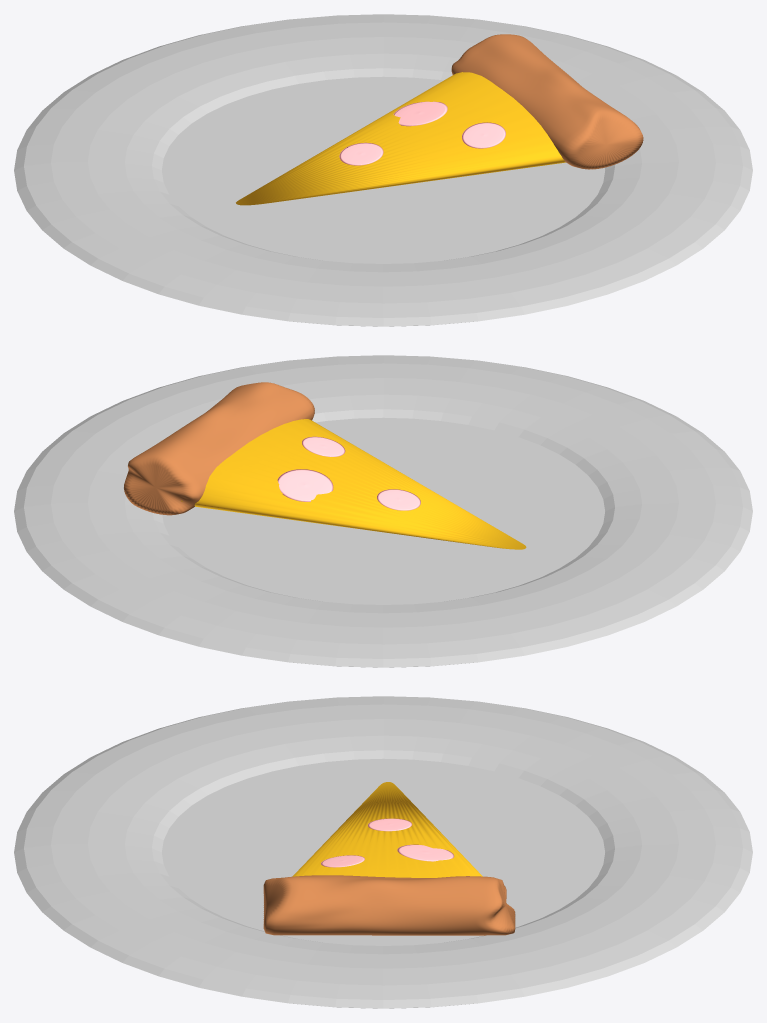
Rendered from pizza.fbx.
The picture shows the model from 3 angles, top to bottom: view 1: azimuth 30°, elevation 25°; view 2: azimuth 150°, elevation 25°; view 3: azimuth 270°, elevation 25°; orthographic projection.
Visible parts, largest first — view 1: Torus, Plane, Cone, Cylinder, Torus.003, Torus.002, Torus.001; view 2: Torus, Plane, Cone, Cylinder, Torus.003, Torus.001, Torus.002; view 3: Torus, Plane, Cylinder, Cone, Torus.003.
Part boxes in pixels (left/top/right/bottom): Torus: left=14, top=14, right=752, bottom=326; Plane: left=162, top=76, right=604, bottom=263; Cone: left=236, top=72, right=565, bottom=205; Cylinder: left=451, top=34, right=643, bottom=169; Torus.003: left=393, top=101, right=447, bottom=126; Torus.002: left=462, top=122, right=505, bottom=148; Torus.001: left=339, top=142, right=383, bottom=165; Torus: left=14, top=355, right=752, bottom=667; Plane: left=162, top=417, right=604, bottom=604; Cone: left=181, top=419, right=526, bottom=549; Cylinder: left=124, top=382, right=314, bottom=515; Torus.003: left=277, top=469, right=333, bottom=501; Torus.001: left=377, top=489, right=420, bottom=510; Torus.002: left=302, top=436, right=345, bottom=456; Torus: left=14, top=696, right=752, bottom=1008; Plane: left=162, top=758, right=604, bottom=945; Cylinder: left=263, top=875, right=515, bottom=935; Cone: left=292, top=782, right=482, bottom=877; Torus.003: left=397, top=844, right=454, bottom=861.
Size of the model in its own units: 332 by 31.89 by 332.
